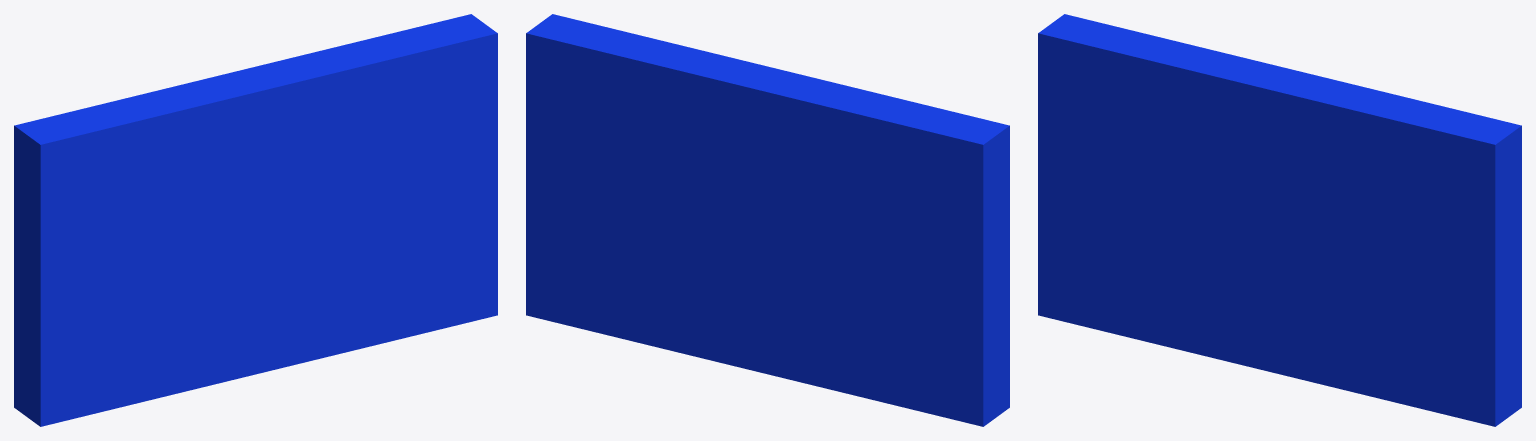
File: fff.obj
3 views of the same model, side by side, from view 1: azimuth 30°, elevation 25°; view 2: azimuth 150°, elevation 25°; view 3: azimuth 330°, elevation 25° (orthographic).
Size of the model in its own units: 30 by 17.68 by 3.
